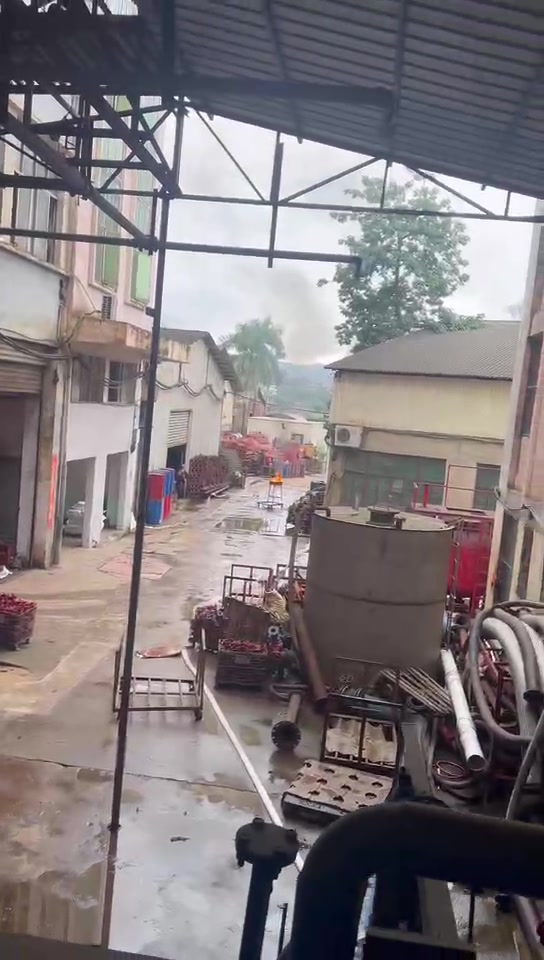fire: (269, 470, 283, 482)
